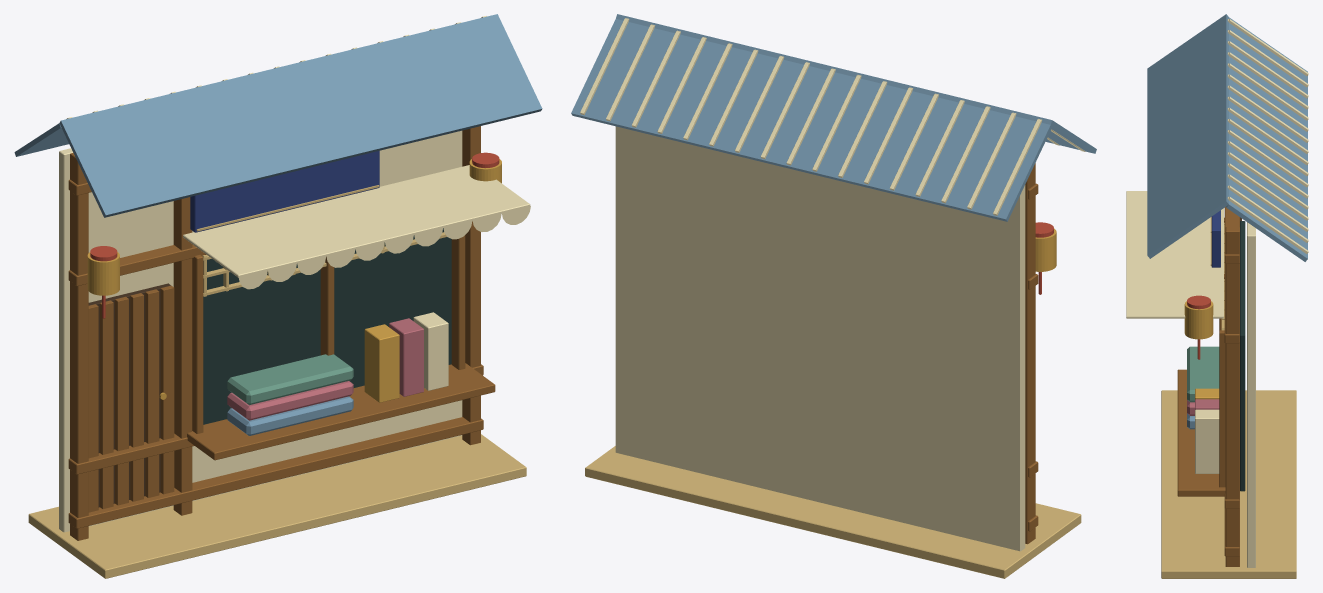
Rendered from paper_textile_shop.glb.
3 renders of one model, left to right at view 1: azimuth 30°, elevation 25°; view 2: azimuth 150°, elevation 25°; view 3: azimuth 270°, elevation 25°, orthographic. The views are drawn at different scales.
Visible parts, largest first — view 1: RoofCard.002, CardFoundation.001, WindowShadow.001, PaperPlaster.001, Awning.001, TimberLintel.004, ShopSign.001, DisplayShelf.001, TimberPost.003, TimberPost.004, DisplayCloth.005, TimberPost.005 (+19 smaller); view 2: PaperPlaster.001, RoofCard.003, CardFoundation.001, TimberPost.003, RoofCard.002, Lantern.002; view 3: CardFoundation.001, RoofCard.002, RoofCard.003, Awning.001, TimberPost.005, PaperPlaster.001, DisplayShelf.001, WindowShadow.001, FabricSample.005, DisplayCloth.005, WindowFrame.005, Lantern.003 (+23 smaller).
Boxes of the visible parts, <box> form: RoofCard.002: <box>59,14,542,217</box>; CardFoundation.001: <box>28,434,526,578</box>; WindowShadow.001: <box>203,228,451,424</box>; PaperPlaster.001: <box>59,130,462,532</box>; Awning.001: <box>183,165,530,277</box>; TimberLintel.004: <box>68,417,483,528</box>; ShopSign.001: <box>190,151,379,232</box>; DisplayShelf.001: <box>187,363,495,460</box>; TimberPost.003: <box>70,153,88,540</box>; TimberPost.004: <box>173,197,192,515</box>; DisplayCloth.005: <box>227,354,353,405</box>; TimberPost.005: <box>462,126,480,445</box>; PaperPlaster.001: <box>615,126,1025,551</box>; RoofCard.003: <box>571,19,1051,221</box>; CardFoundation.001: <box>585,446,1081,578</box>; TimberPost.003: <box>1025,163,1035,544</box>; RoofCard.002: <box>616,14,1096,153</box>; Lantern.002: <box>1035,228,1056,271</box>; CardFoundation.001: <box>1161,390,1296,578</box>; RoofCard.002: <box>1147,14,1228,258</box>; RoofCard.003: <box>1226,17,1307,261</box>; Awning.001: <box>1126,191,1223,318</box>; TimberPost.005: <box>1225,227,1239,566</box>; PaperPlaster.001: <box>1247,222,1255,567</box>; DisplayShelf.001: <box>1177,369,1225,496</box>; WindowShadow.001: <box>1240,221,1245,491</box>; FabricSample.005: <box>1195,409,1219,473</box>; DisplayCloth.005: <box>1187,346,1219,402</box>; WindowFrame.005: <box>1219,330,1225,487</box>; Lantern.003: <box>1184,301,1213,339</box>.
Size of the model in its own units: 5.9 by 5.65 by 2.44.
